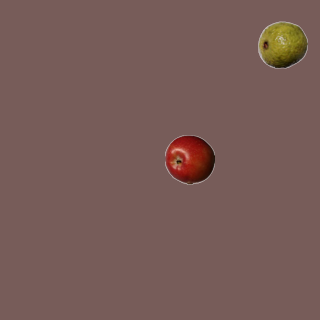Apple Braeburn: (164, 134, 214, 184)
Guava: (257, 19, 307, 69)
